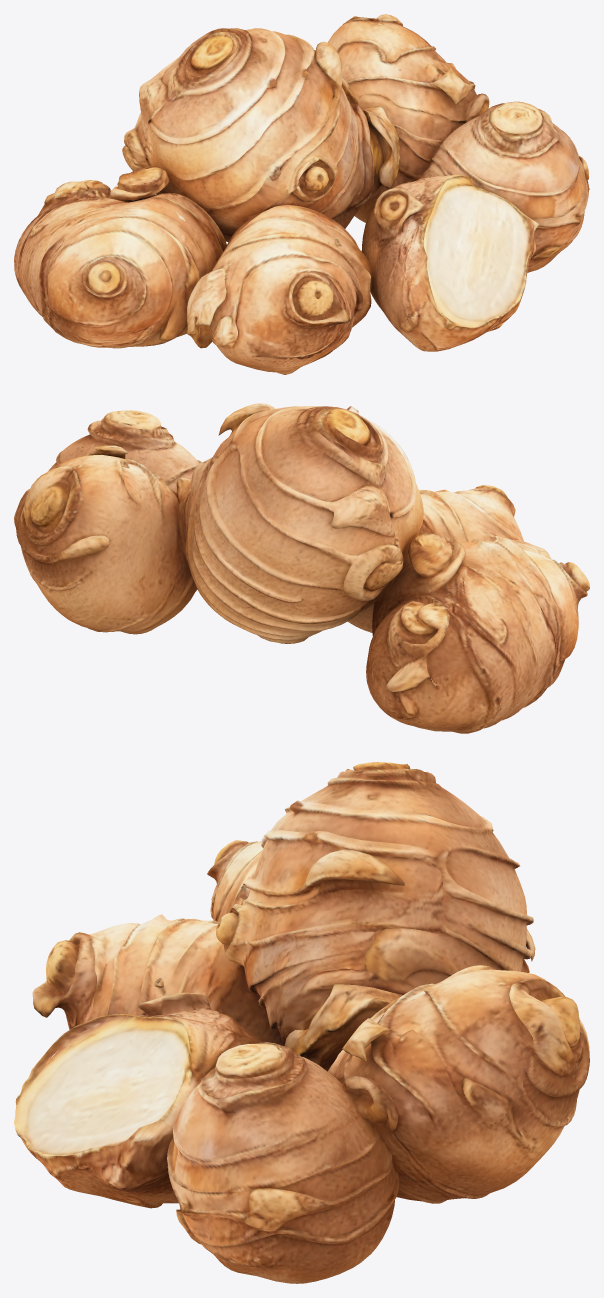
File: lod_basic_shaded.fbx
3 renders of one model, top to bottom at view 1: azimuth 30°, elevation 25°; view 2: azimuth 150°, elevation 25°; view 3: azimuth 270°, elevation 25°, orthographic. The views are drawn at different scales.
Parts seen in each view (by area): view 1: model_LOD0; view 2: model_LOD0; view 3: model_LOD0.
Boxes of the visible parts, x1=… form: model_LOD0: x1=14, y1=14, x2=589, y2=374; model_LOD0: x1=14, y1=403, x2=589, y2=733; model_LOD0: x1=14, y1=762, x2=589, y2=1283.
Size of what is drawn, in the model's own units: 190 by 95.68 by 136.
